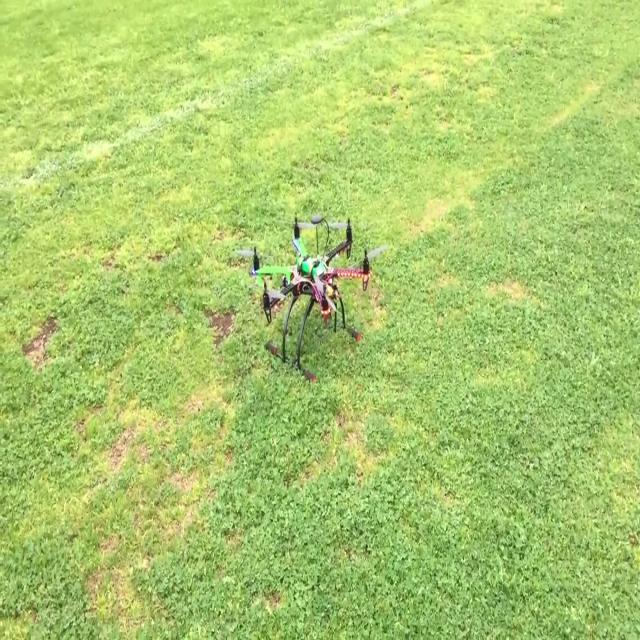drone: (238, 215, 399, 376)
